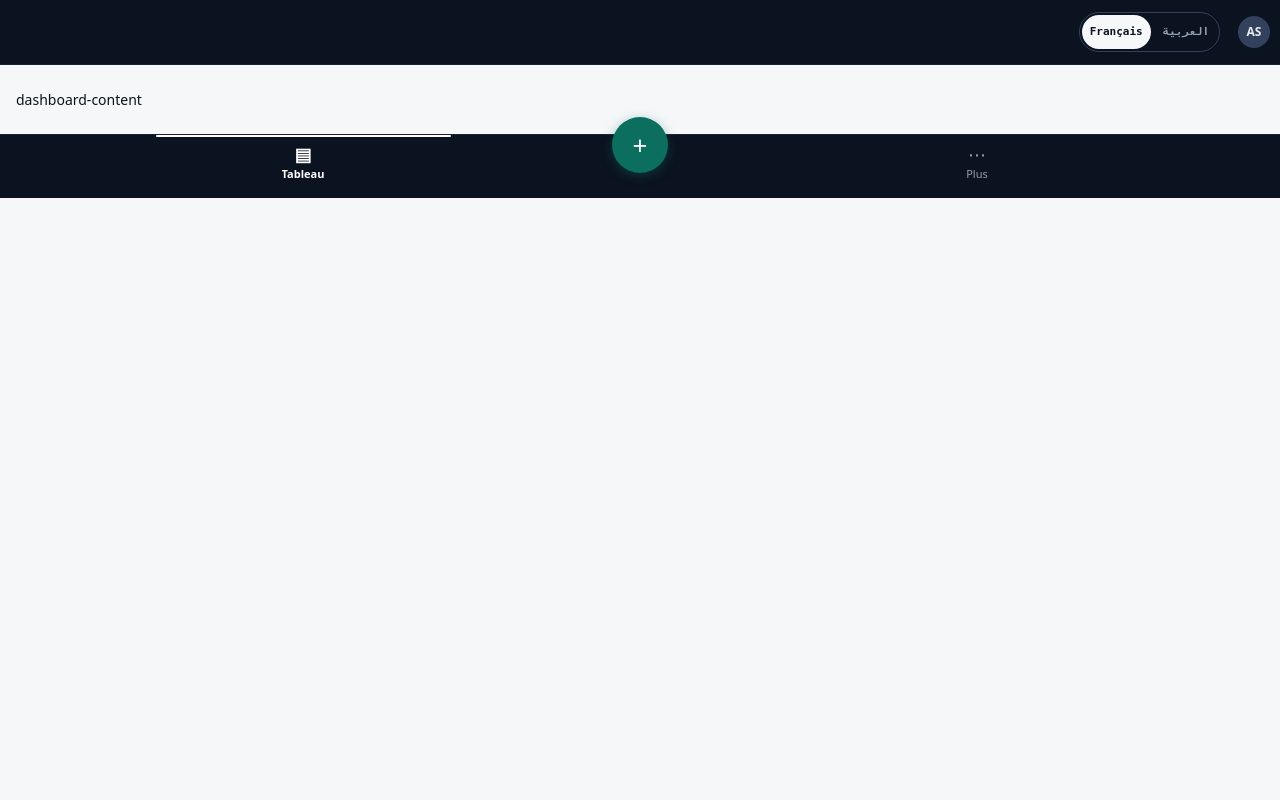
Scenario: AppShell action sheet › filters sheet items by permission rather than disabling them
Click the button named "Actions rapides". click: (640, 145)
box: x1=612 y1=117 x2=668 y2=173
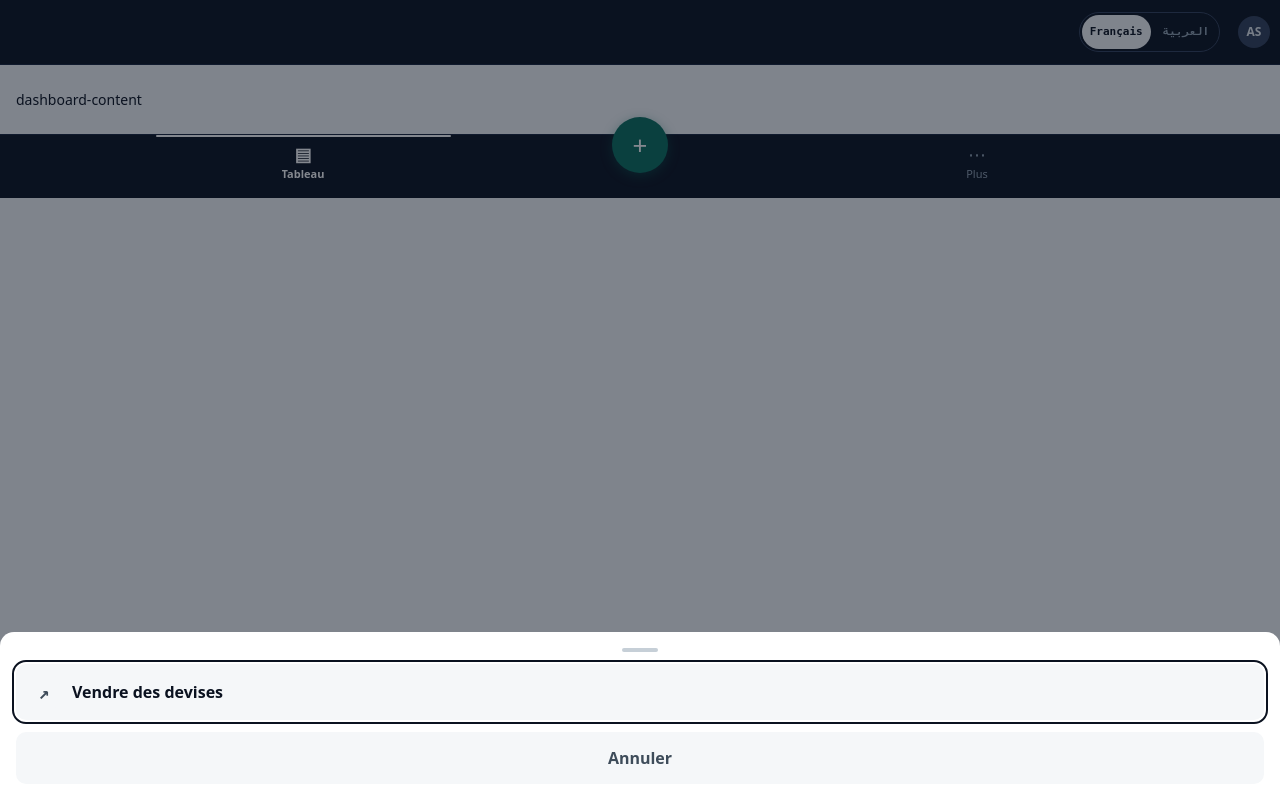
Check: the button "↗ Vendre des devises" is shown, box x1=16 y1=664 x2=1264 y2=720
